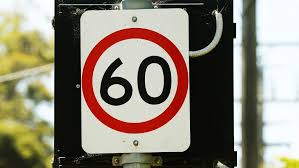Speed_limit_60km: (84, 28, 190, 129)
